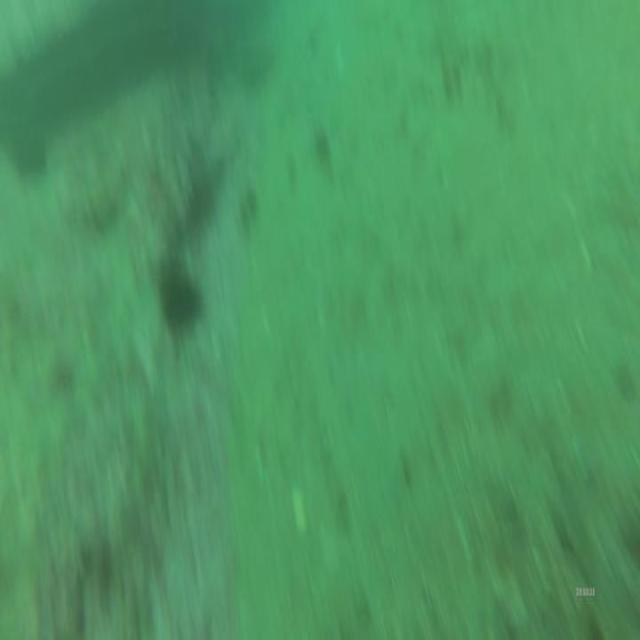echinus: (153, 244, 205, 334)
